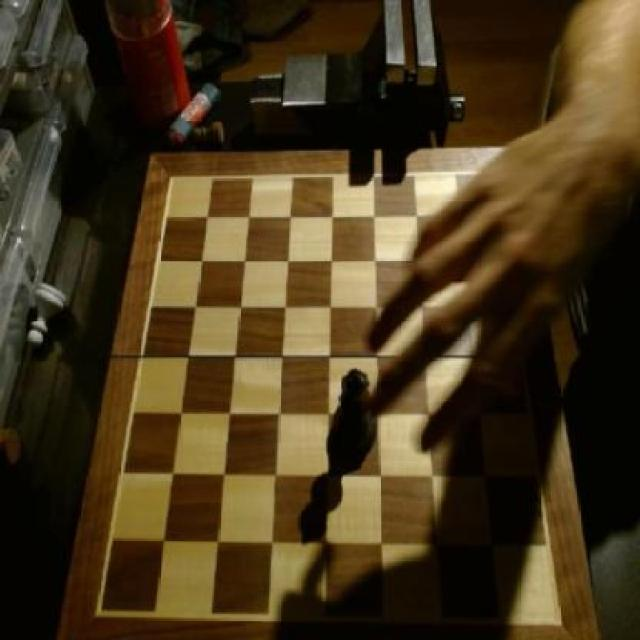black-pawn: (334, 363, 376, 467)
